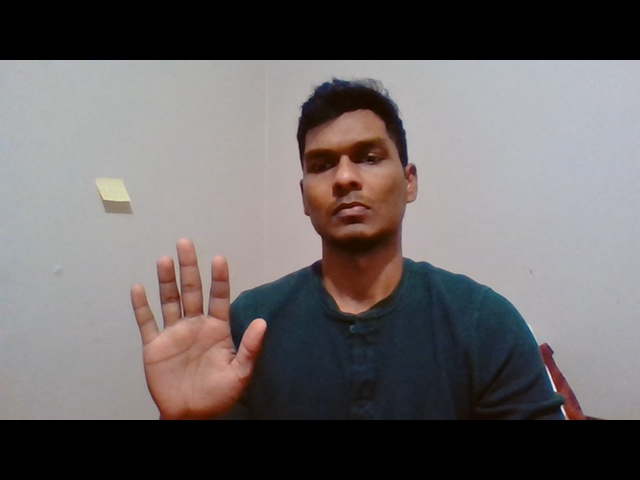Hello: (126, 237, 271, 420)
